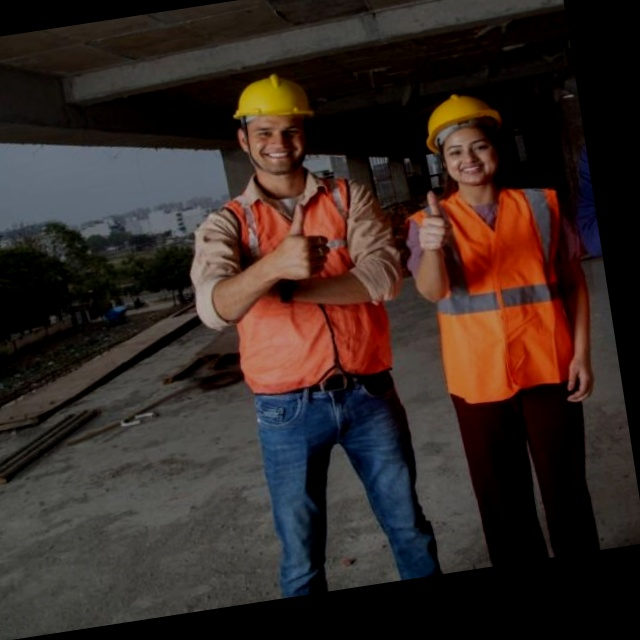Con_Casco: (228, 70, 321, 180), (420, 88, 514, 190)
Con_Chaleco: (210, 167, 395, 397), (410, 176, 589, 410)
